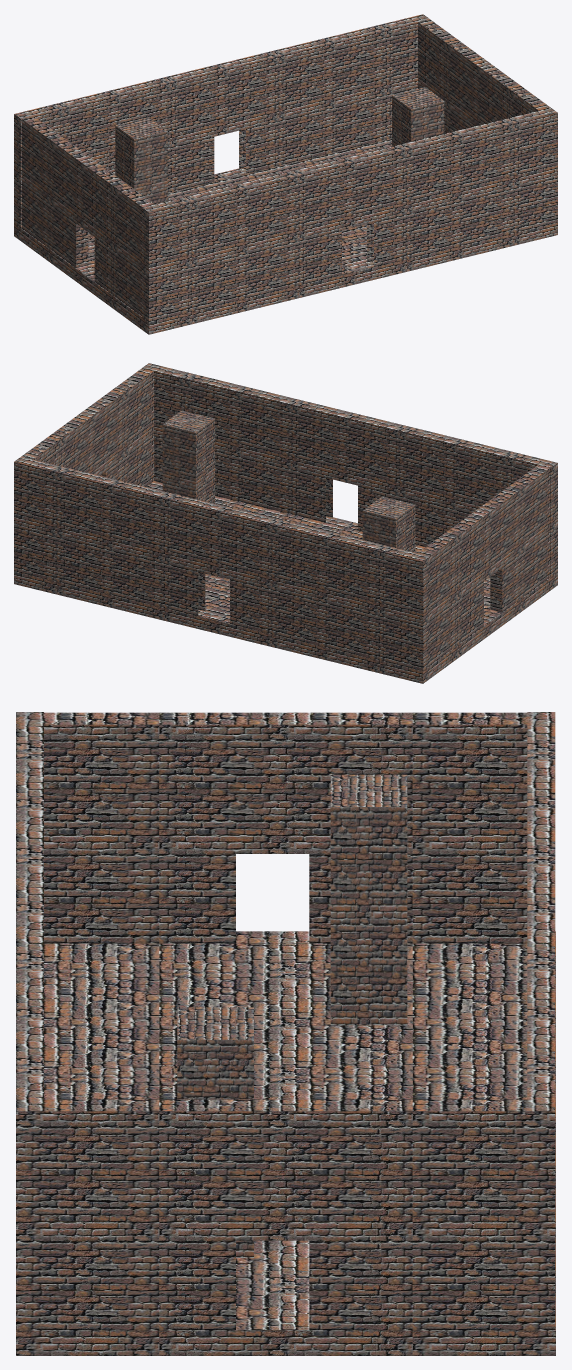
The model's file is LevelTest01.FBX.
3 views of the same model, one above another, from view 1: azimuth 30°, elevation 25°; view 2: azimuth 150°, elevation 25°; view 3: azimuth 270°, elevation 25° (orthographic). The views are drawn at different scales.
Visible parts, largest first — view 1: Box001; view 2: Box001; view 3: Box001.
Boxes of the visible parts, bbox=[...] form: Box001: bbox=[14, 14, 557, 334]; Box001: bbox=[14, 363, 557, 683]; Box001: bbox=[16, 712, 555, 1355].
Size of the model in its own units: 96.98 by 27.72 by 55.41.
